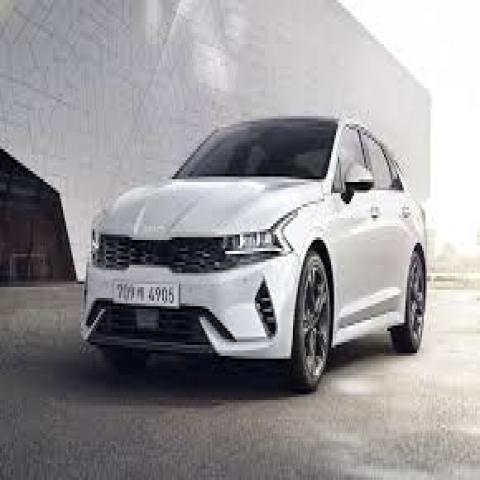LP: (107, 272, 183, 316)
